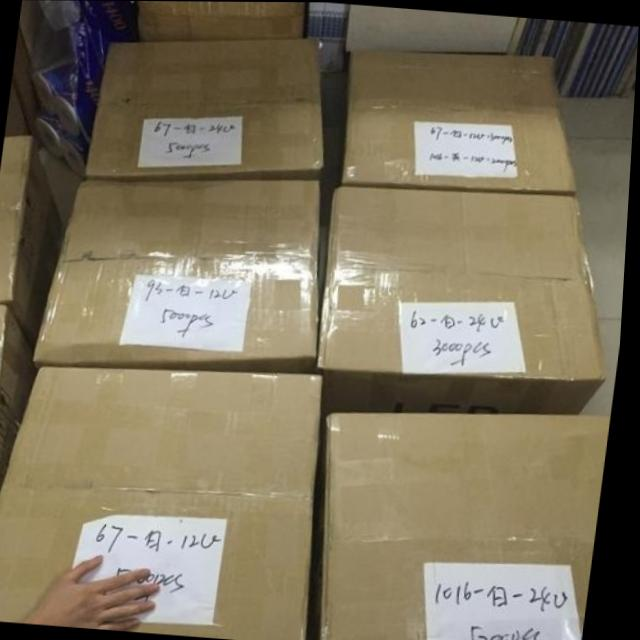box: (0, 364, 324, 639), (324, 184, 611, 415), (329, 411, 614, 640), (37, 175, 325, 372), (340, 50, 579, 190), (87, 38, 323, 175), (0, 134, 66, 349), (0, 301, 42, 504), (136, 1, 305, 37), (6, 0, 47, 137)
